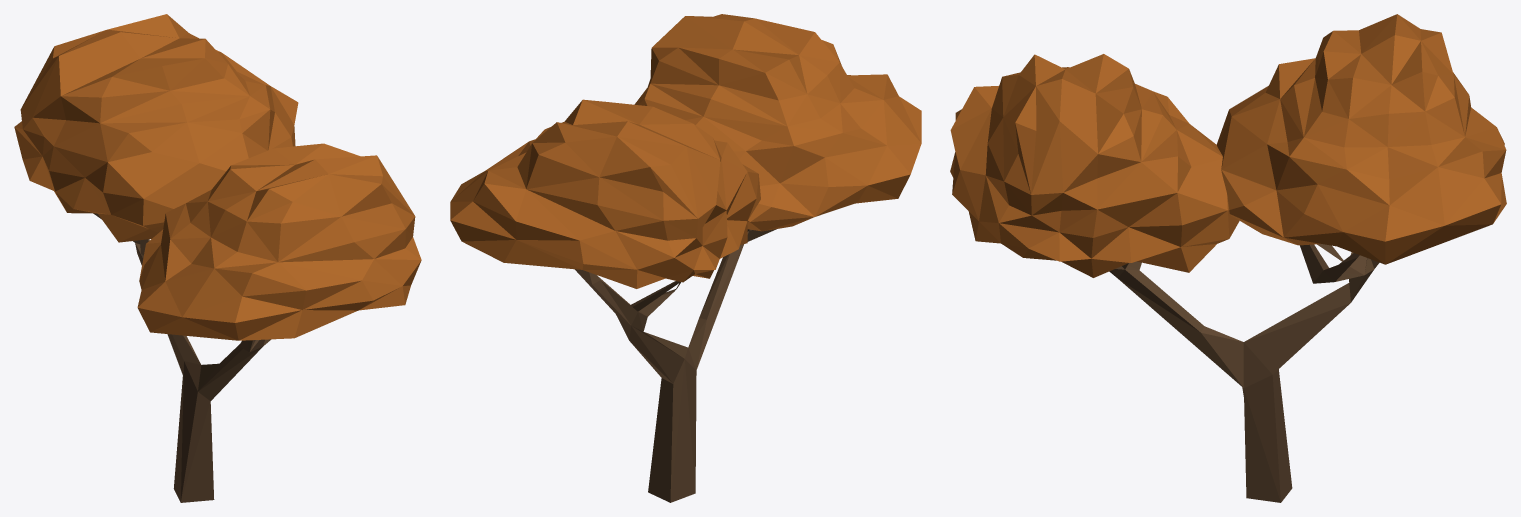
Rendered from tree_autumn_1.glb.
The picture shows the model from 3 angles, left to right: view 1: azimuth 30°, elevation 25°; view 2: azimuth 150°, elevation 25°; view 3: azimuth 270°, elevation 25°; orthographic projection. The views are drawn at different scales.
Visible parts, largest first — view 1: lod0; view 2: lod0; view 3: lod0.
Part boxes in pixels (left/top/right/bottom): lod0: left=14, top=14, right=421, bottom=502; lod0: left=450, top=14, right=921, bottom=502; lod0: left=950, top=14, right=1506, bottom=502.
Size of what is drawn, in the model's own units: 5.18 by 6.79 by 7.6.
